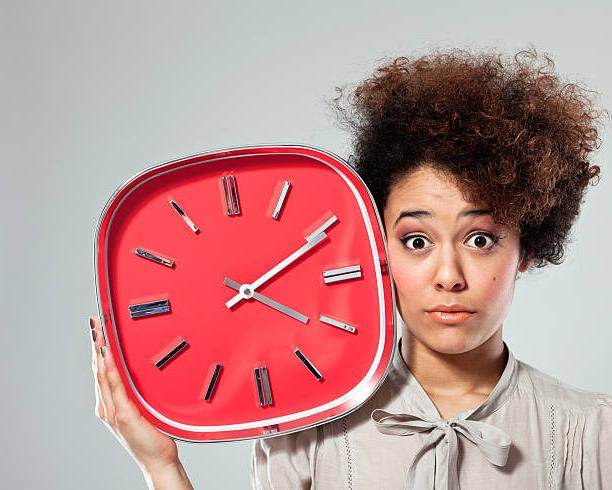clock: (98, 139, 397, 447)
